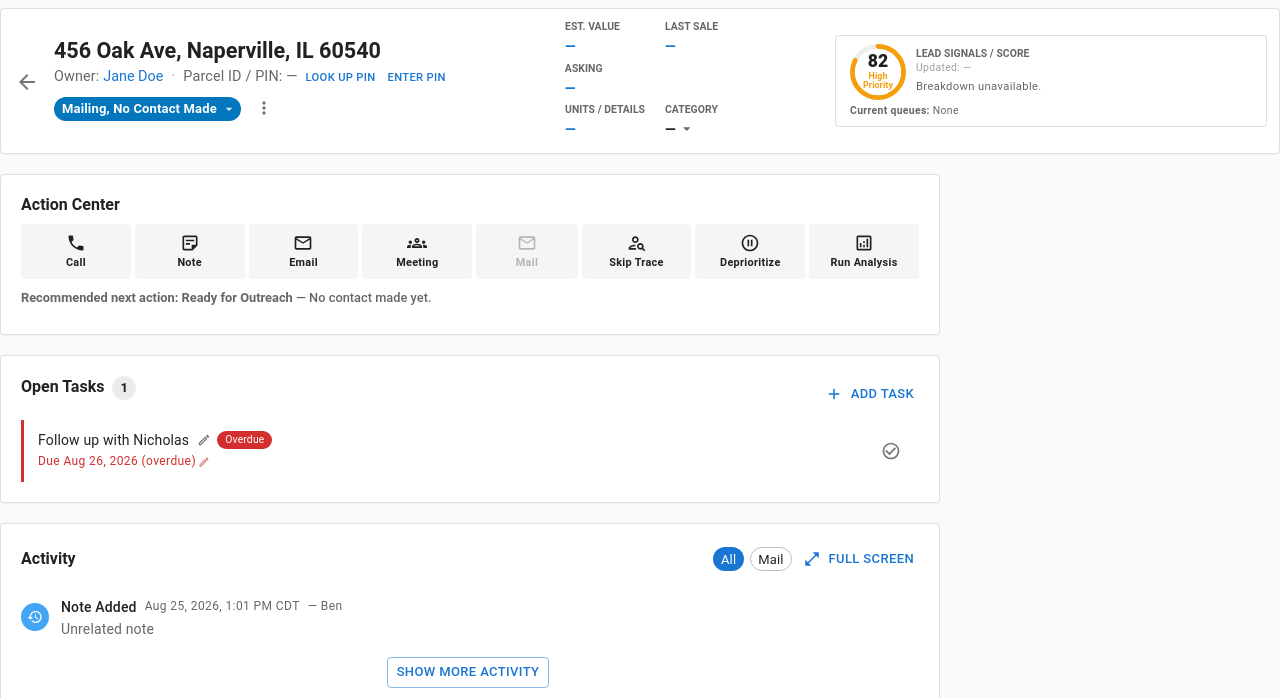
it: UnifiedLeadCommandCenter — structural presence › uses loaded older activity pages for primary task context
What coordinates should you click on to do the following:
click the button with test id "load-more-btn"
I would click on:
 (468, 672)
Its box is [387,657,549,688].
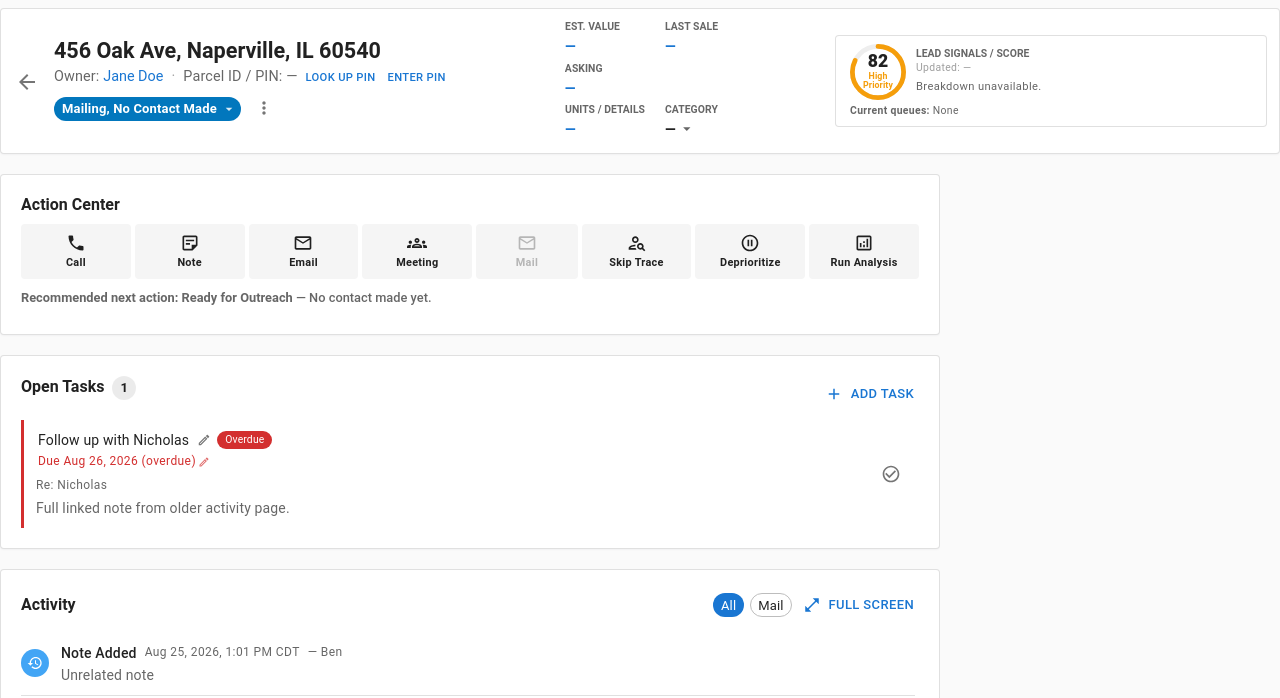
Check: the element with test id "task-activity-context-12798" shows "Re: Nicholas", box [36,478,290,516]
Check: the element with test id "task-activity-context-12798" shows "Full linked note from older activity page.", box [36,500,290,516]
